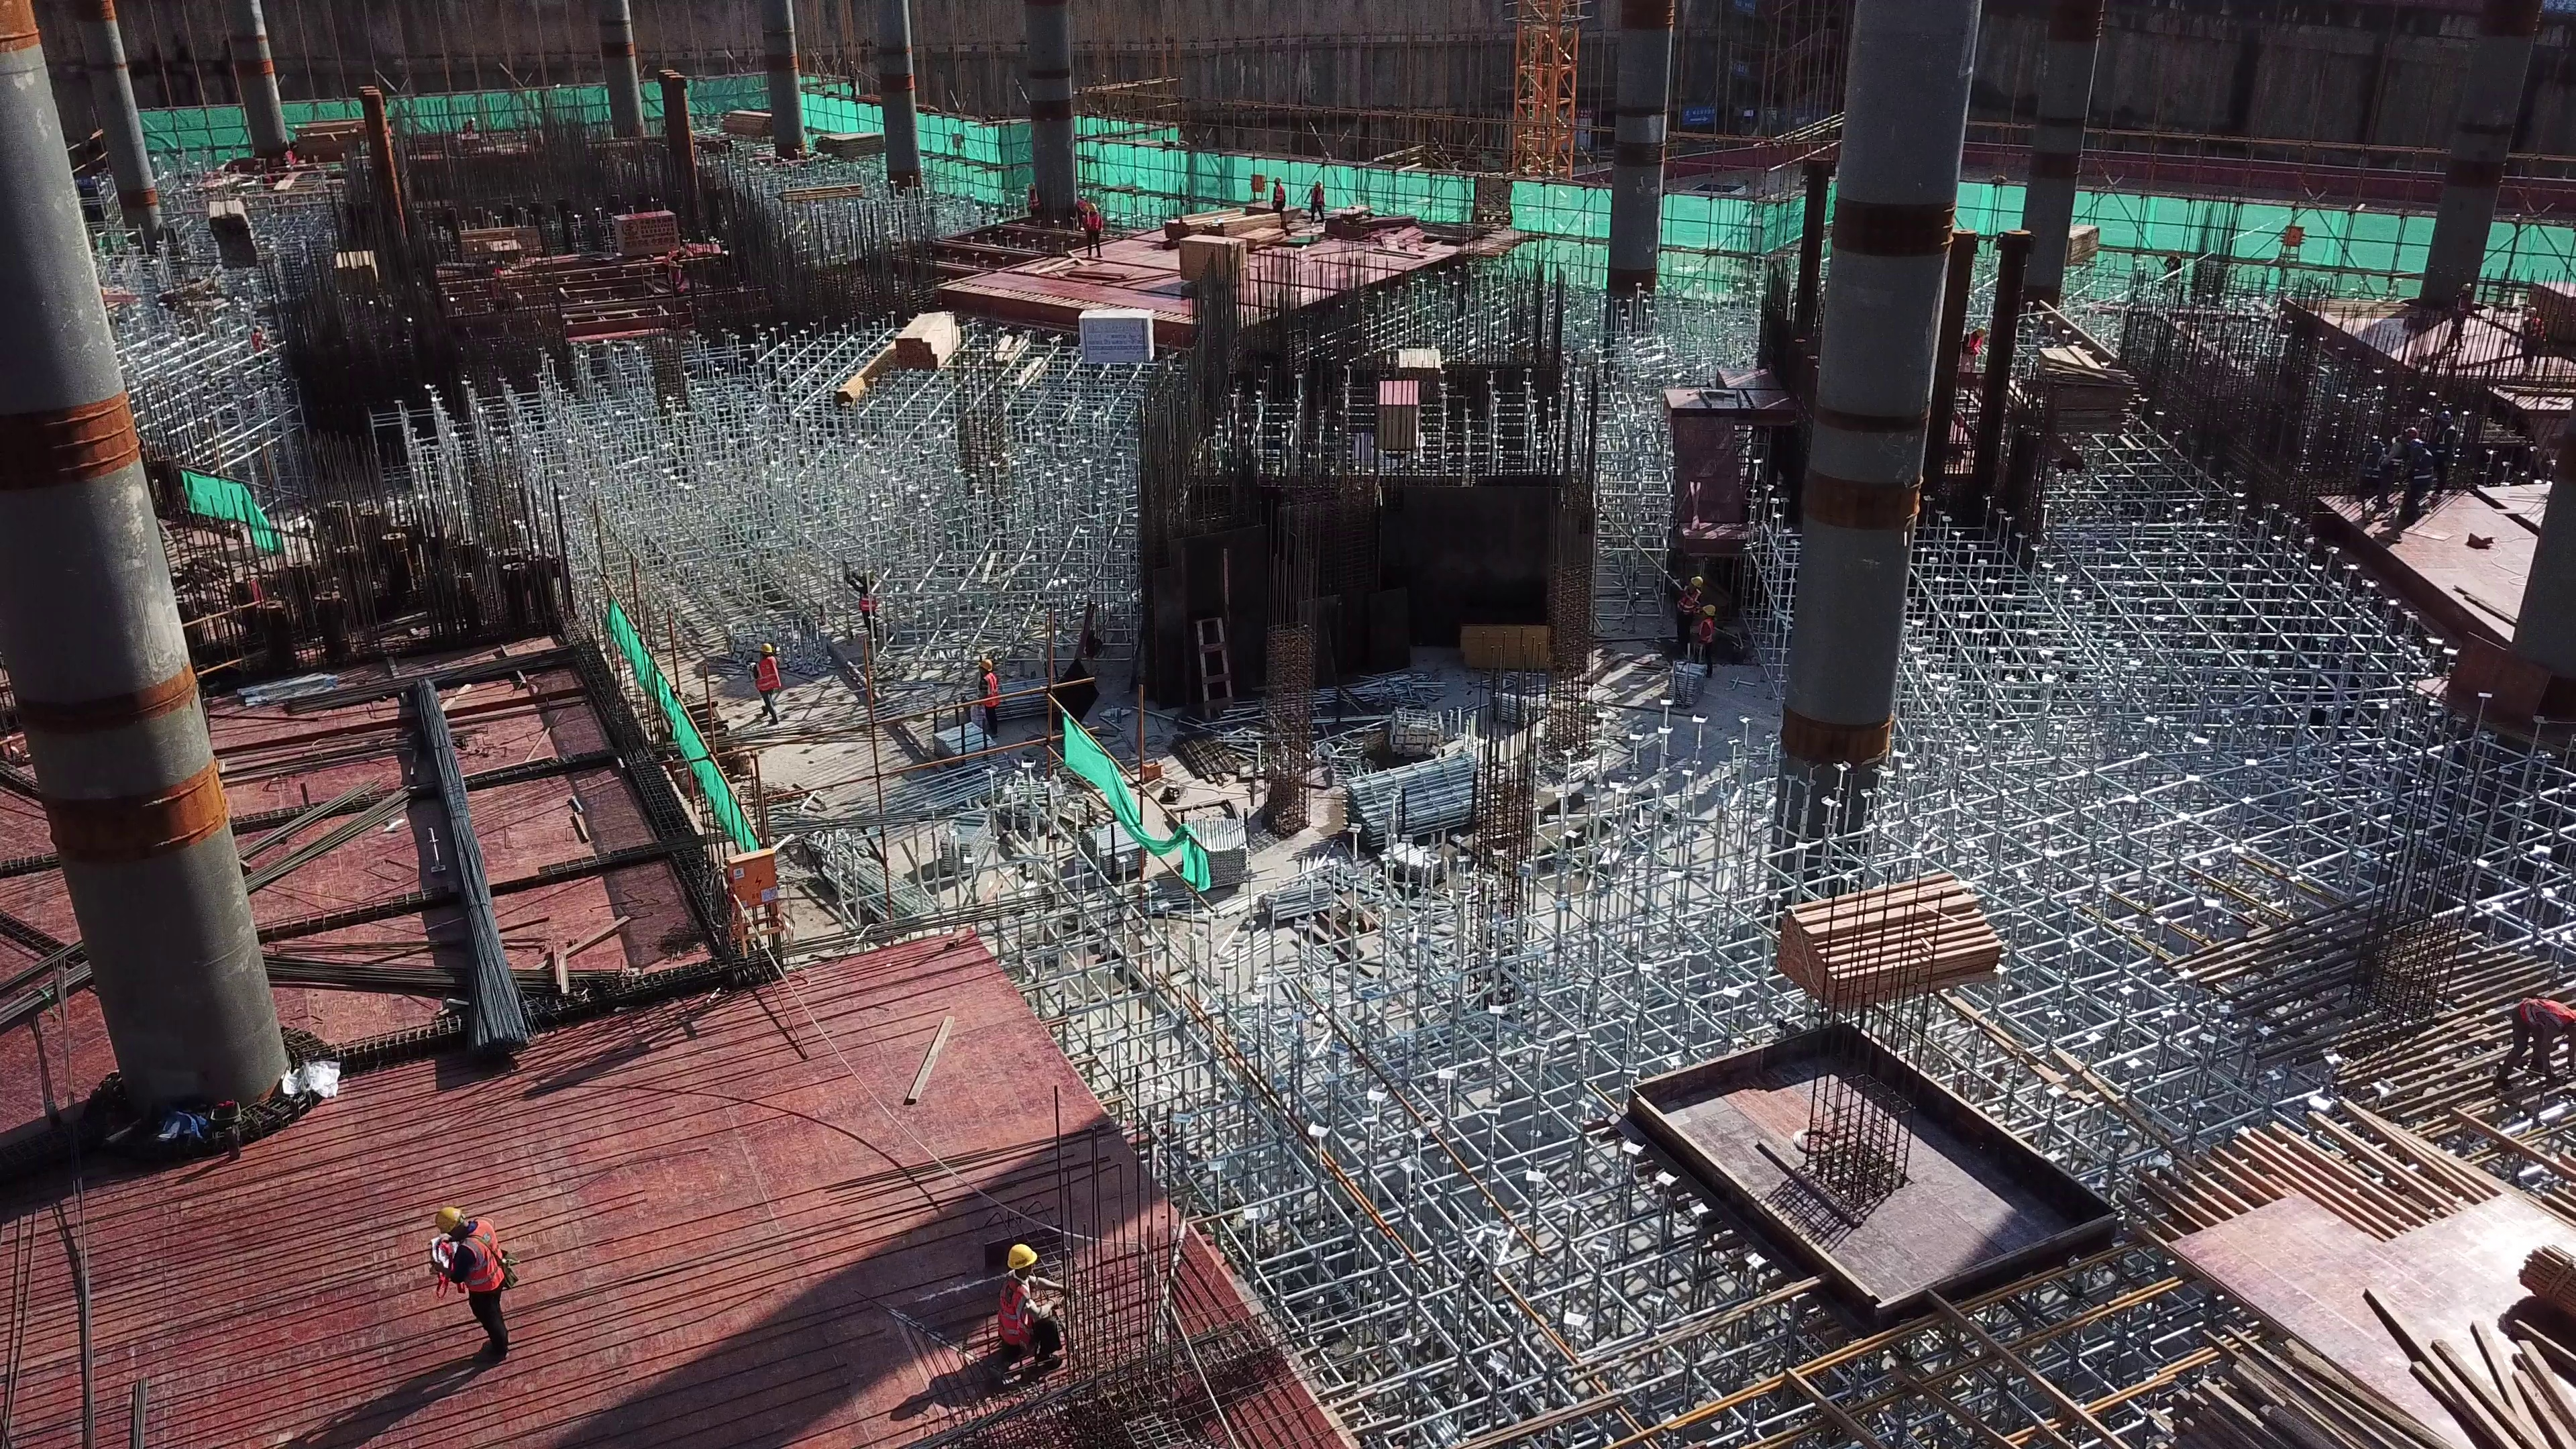helmet: (1002, 1238, 1032, 1272), (433, 1207, 466, 1234), (2436, 411, 2456, 429), (755, 643, 773, 657), (2400, 428, 2421, 441), (1697, 606, 1715, 618), (1691, 574, 1705, 588), (975, 661, 989, 674), (2458, 282, 2475, 293), (1086, 203, 1102, 213), (2412, 442, 2424, 452), (2525, 307, 2537, 316)
person: (421, 1202, 517, 1371), (987, 1241, 1072, 1375), (2488, 994, 2576, 1087), (747, 640, 782, 739), (1667, 568, 1697, 655), (973, 664, 1006, 743), (2432, 414, 2455, 506), (2449, 282, 2478, 352), (2408, 442, 2432, 523), (1695, 604, 1719, 682), (2358, 441, 2384, 504), (1077, 204, 1105, 262), (2521, 309, 2544, 376), (1303, 180, 1328, 225), (1273, 175, 1289, 219)
vest: (463, 1219, 510, 1297), (996, 1279, 1032, 1343), (2516, 990, 2576, 1028), (753, 658, 780, 694), (2435, 429, 2453, 470), (977, 673, 1000, 706), (2409, 454, 2431, 490), (2363, 453, 2383, 482), (1693, 620, 1714, 644), (1676, 589, 1697, 614), (1083, 214, 1103, 234), (2453, 297, 2471, 318), (1309, 188, 1327, 209), (1272, 185, 1284, 203)
